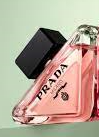prada_paradoxe: (10, 21, 99, 125)
